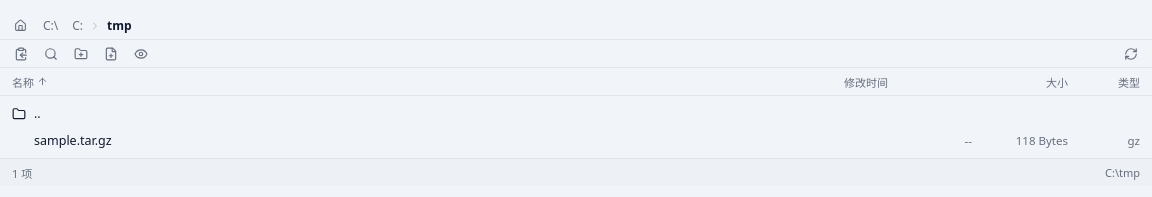
Test: SftpPaneView 右键菜单 › 行右键显示行菜单，且不被列表空白菜单覆盖
Expected: the text "sample.tar.gz" is shown, x1=34 y1=132 x2=112 y2=149
Right-click the element showing "sample.tar.gz -- 118 Bytes gz" at point(73, 140), box x1=0 y1=127 x2=1151 y2=154
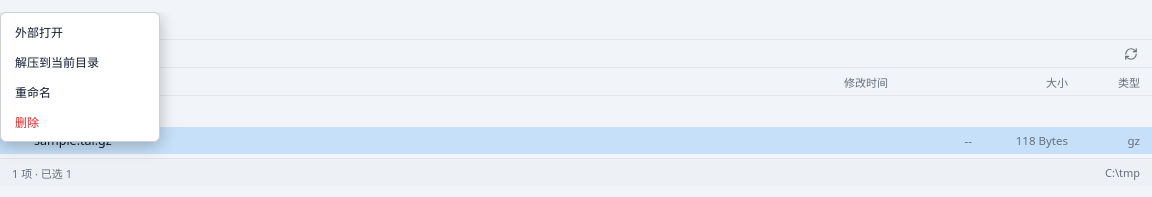
Expected: the button "解压到当前目录" is shown, x1=5 y1=47 x2=155 y2=77
